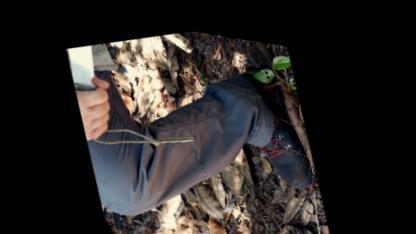knife: (64, 34, 124, 114)
